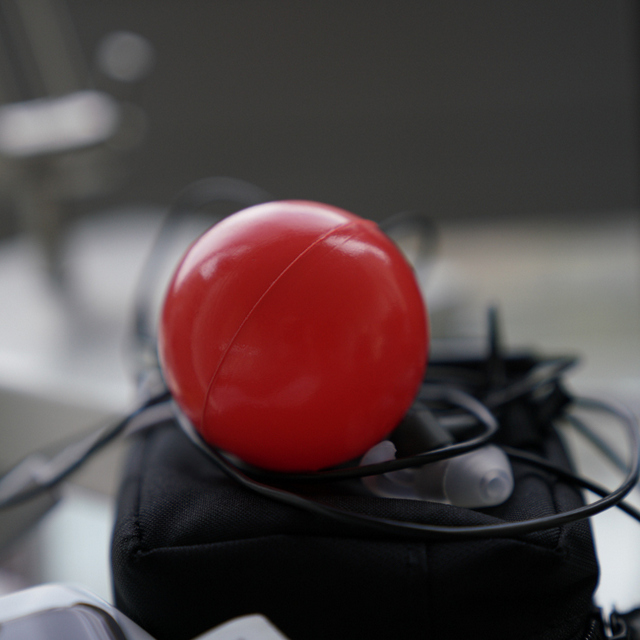Ball: (168, 201, 430, 470)
